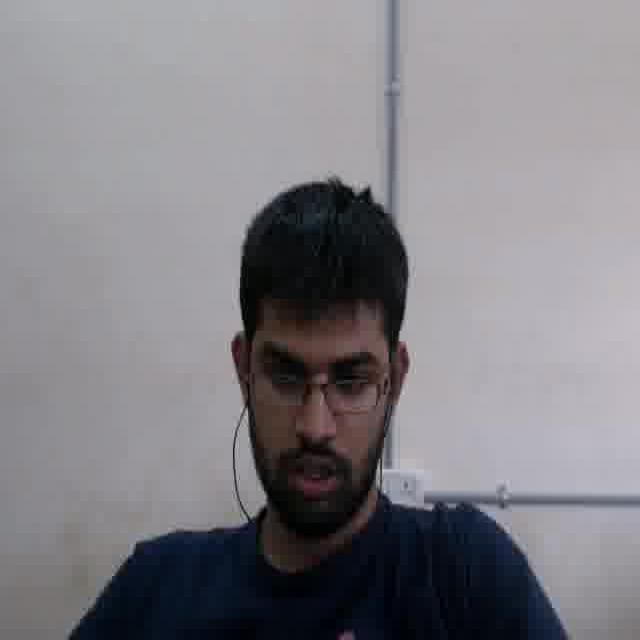Engaged: (244, 296, 384, 519)
